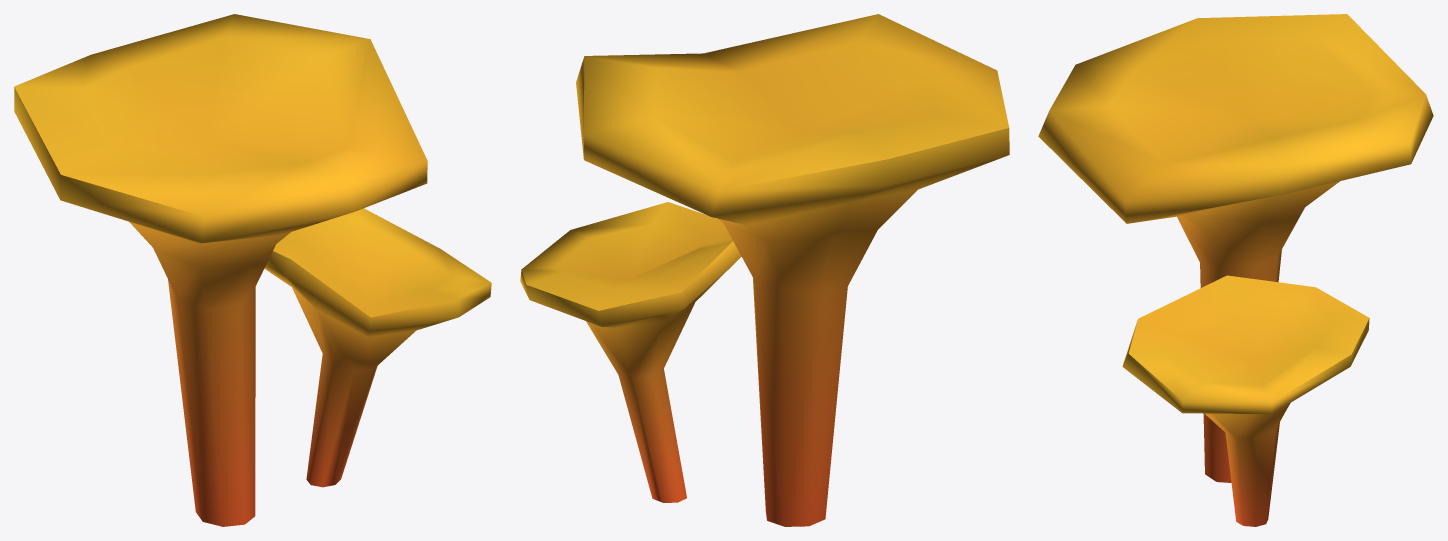
The model's file is mushroom_cibarius_2.obj.
The picture shows the model from 3 angles, left to right: view 1: azimuth 30°, elevation 25°; view 2: azimuth 150°, elevation 25°; view 3: azimuth 270°, elevation 25°; orthographic projection. The views are drawn at different scales.
Parts seen in each view (by area): view 1: mushroom_cibarius_2; view 2: mushroom_cibarius_2; view 3: mushroom_cibarius_2.
Part boxes in pixels (left/top/right/bottom): mushroom_cibarius_2: left=14, top=14, right=491, bottom=526; mushroom_cibarius_2: left=520, top=14, right=1009, bottom=526; mushroom_cibarius_2: left=1038, top=14, right=1433, bottom=526.
Size of the model in its own units: 0.3769 by 0.357 by 0.3277.
